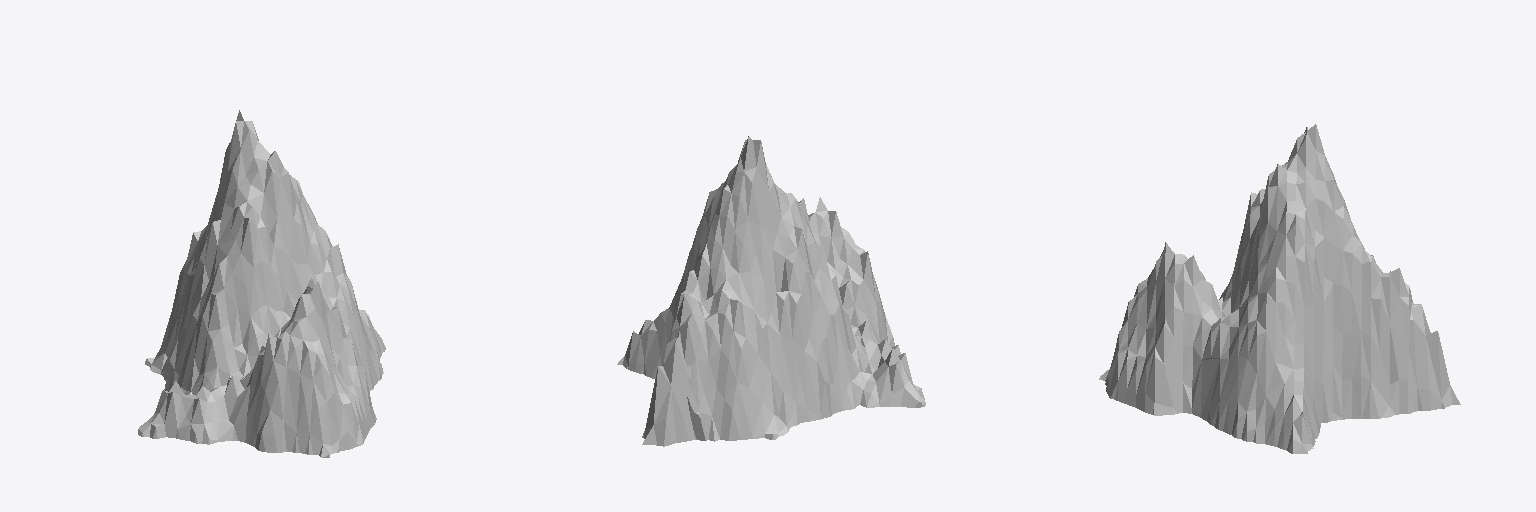
The model's file is montania.obj.
3 views of the same model, side by side, from view 1: azimuth 30°, elevation 25°; view 2: azimuth 150°, elevation 25°; view 3: azimuth 270°, elevation 25° (orthographic).
Visible parts, largest first — view 1: Mountains_only; view 2: Mountains_only; view 3: Mountains_only.
Part boxes in pixels (left/top/right/bottom): Mountains_only: left=138, top=110, right=385, bottom=457; Mountains_only: left=617, top=136, right=925, bottom=446; Mountains_only: left=1099, top=124, right=1460, bottom=453.
Bounding box in the file's own units: 204 × 189 × 233.